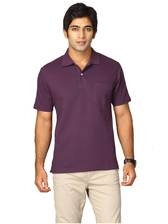clothoes: (29, 50, 136, 174)
watch: (122, 157, 143, 170)
